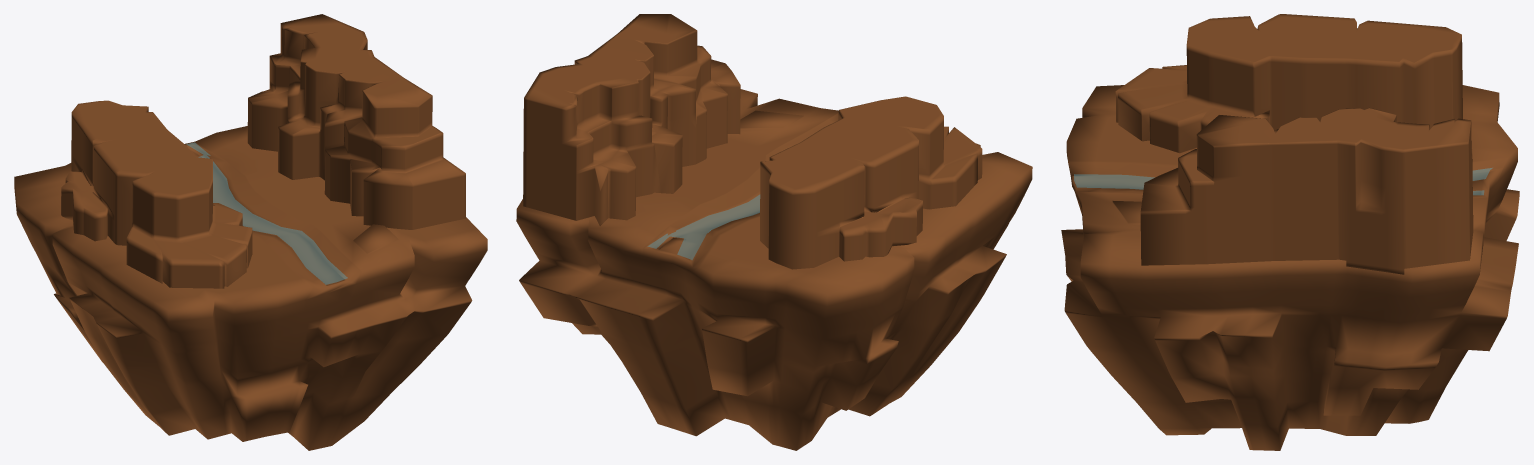
Rendered from Canyon.glb.
The picture shows the model from 3 angles, left to right: view 1: azimuth 30°, elevation 25°; view 2: azimuth 150°, elevation 25°; view 3: azimuth 270°, elevation 25°; orthographic projection. The views are drawn at different scales.
Visible parts, largest first — view 1: Cube.007, Cube.008, Cube.009, Cube.170; view 2: Cube.007, Cube.008, Cube.009, Cube.170; view 3: Cube.007, Cube.008, Cube.009, Cube.170.
Part boxes in pixels (x1,y1,x2,y2): Cube.007: (14, 126, 487, 450); Cube.008: (247, 14, 465, 229); Cube.009: (61, 100, 252, 288); Cube.170: (186, 142, 347, 284); Cube.007: (516, 89, 1032, 450); Cube.008: (523, 14, 740, 225); Cube.009: (760, 96, 982, 269); Cube.170: (648, 195, 759, 259); Cube.007: (1061, 85, 1519, 450); Cube.008: (1140, 108, 1473, 274); Cube.009: (1115, 14, 1462, 153); Cube.170: (1074, 168, 1492, 194).
Size of the model in its own units: 5.76 by 4.91 by 5.58.
